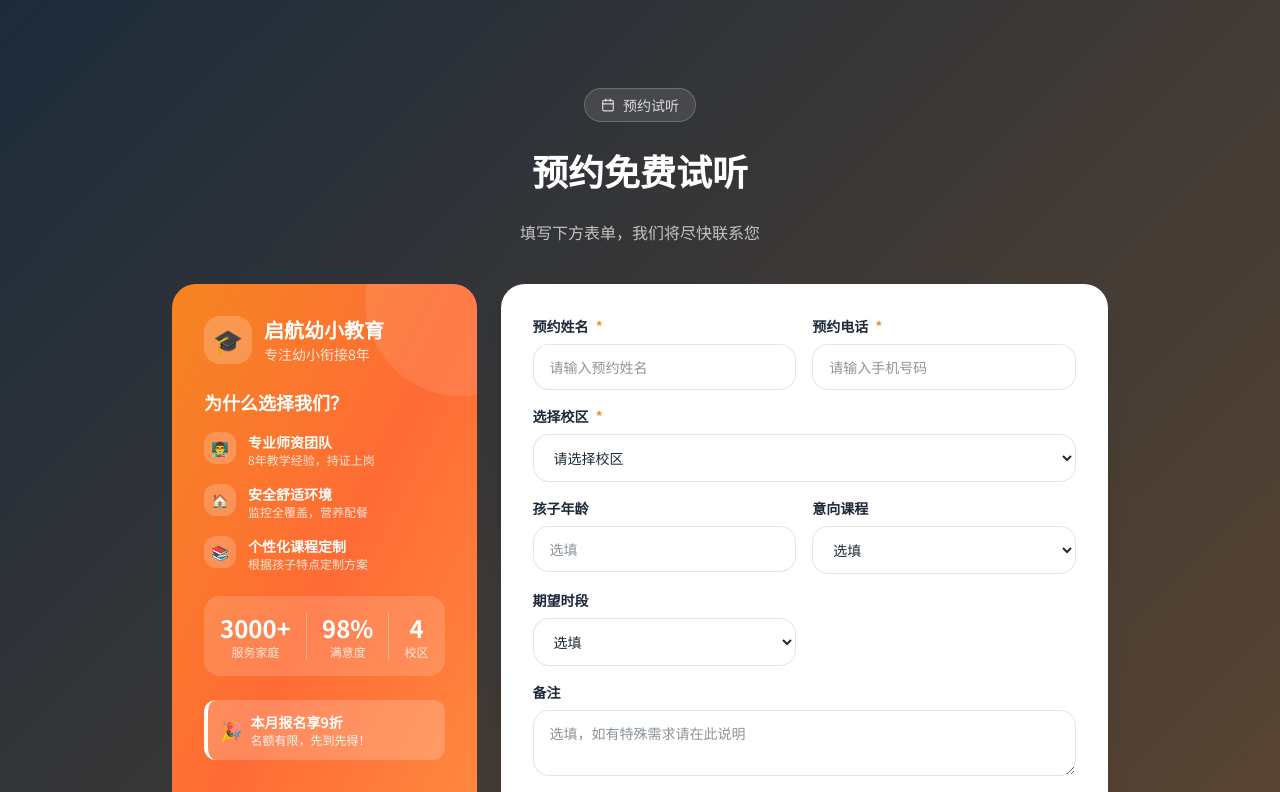
Test: ContactForm 组件 › 校区字段为空时显示错误
Step 1. Type "小明" into the field labelled "预约姓名 *" → (664, 367), box [533,344,796,390]
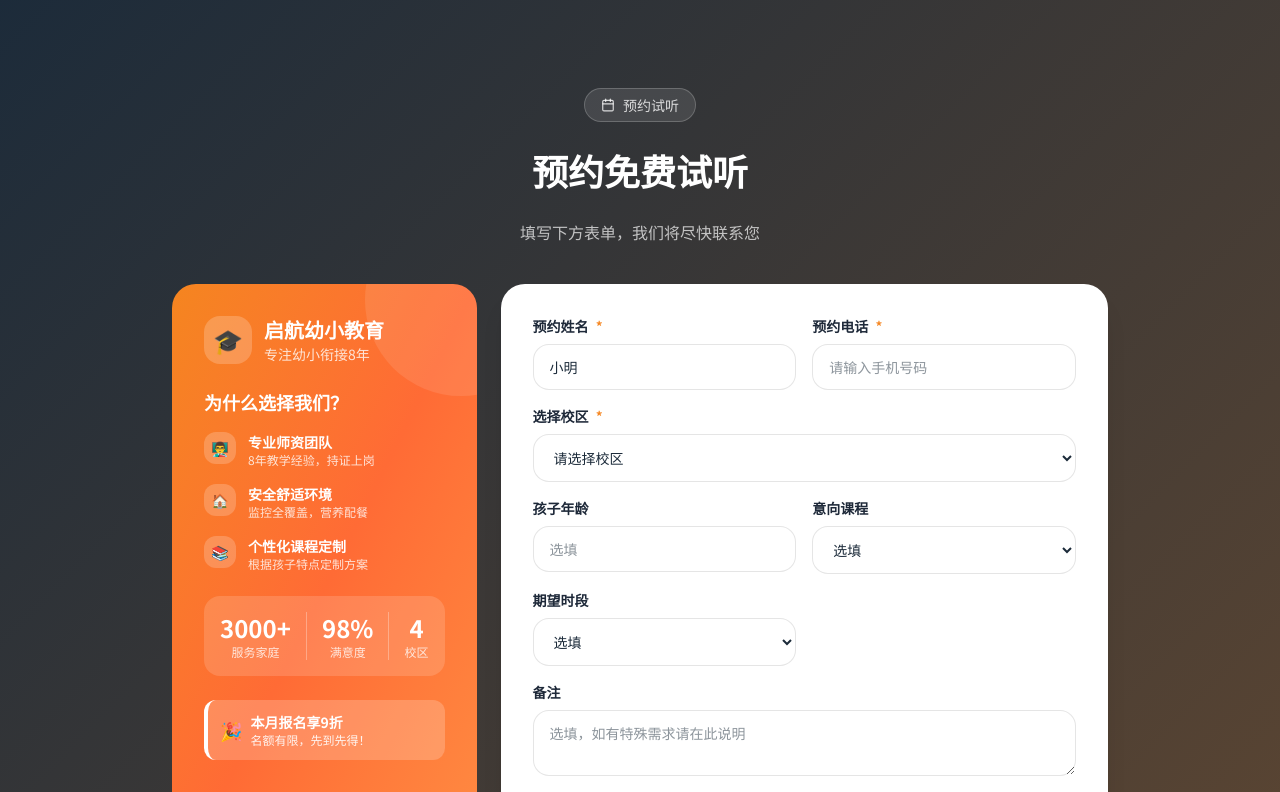
Step 2. Type "13800138000" into the field labelled "预约电话 *" → (944, 367), box [812,344,1076,390]
(page scrolled)
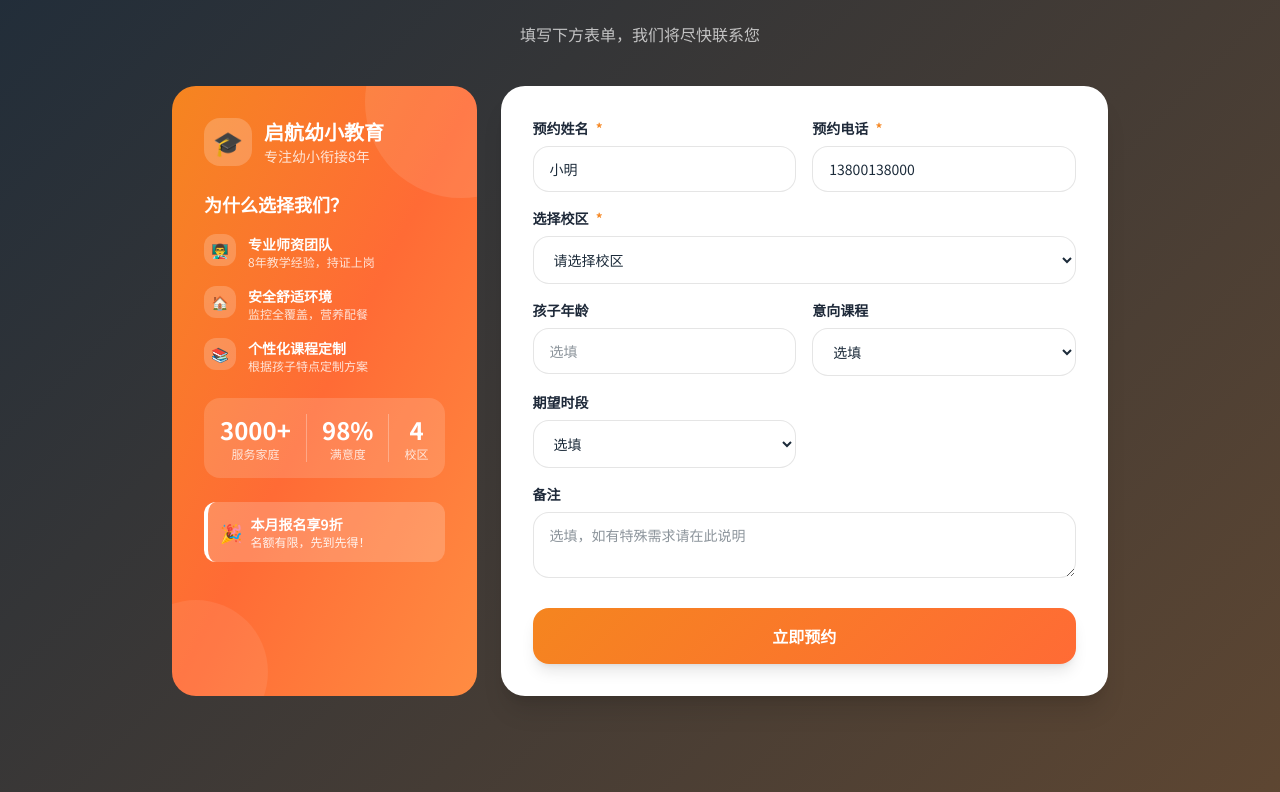
Step 3. Click the button "立即预约" → (804, 636), box [533,608,1076,664]
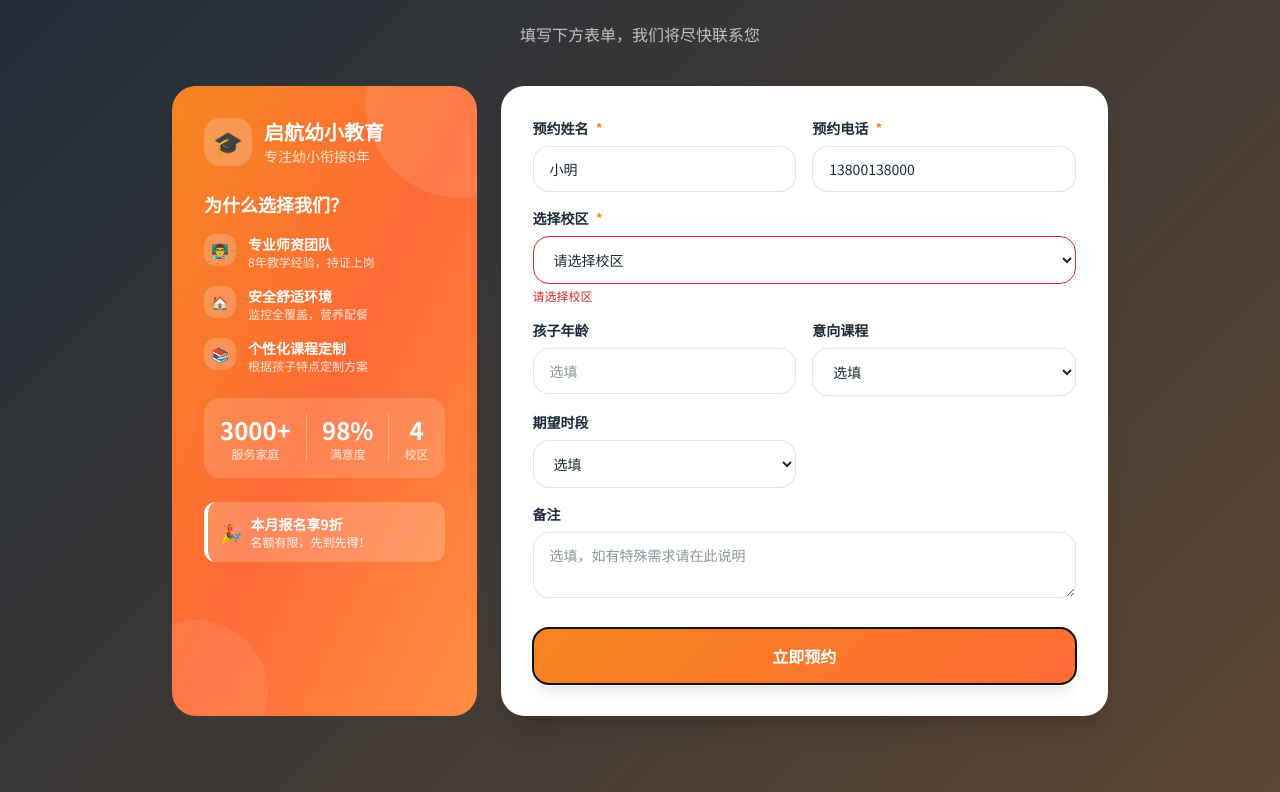
Check: the text "请选择校区" is shown, box [533,287,593,304]
